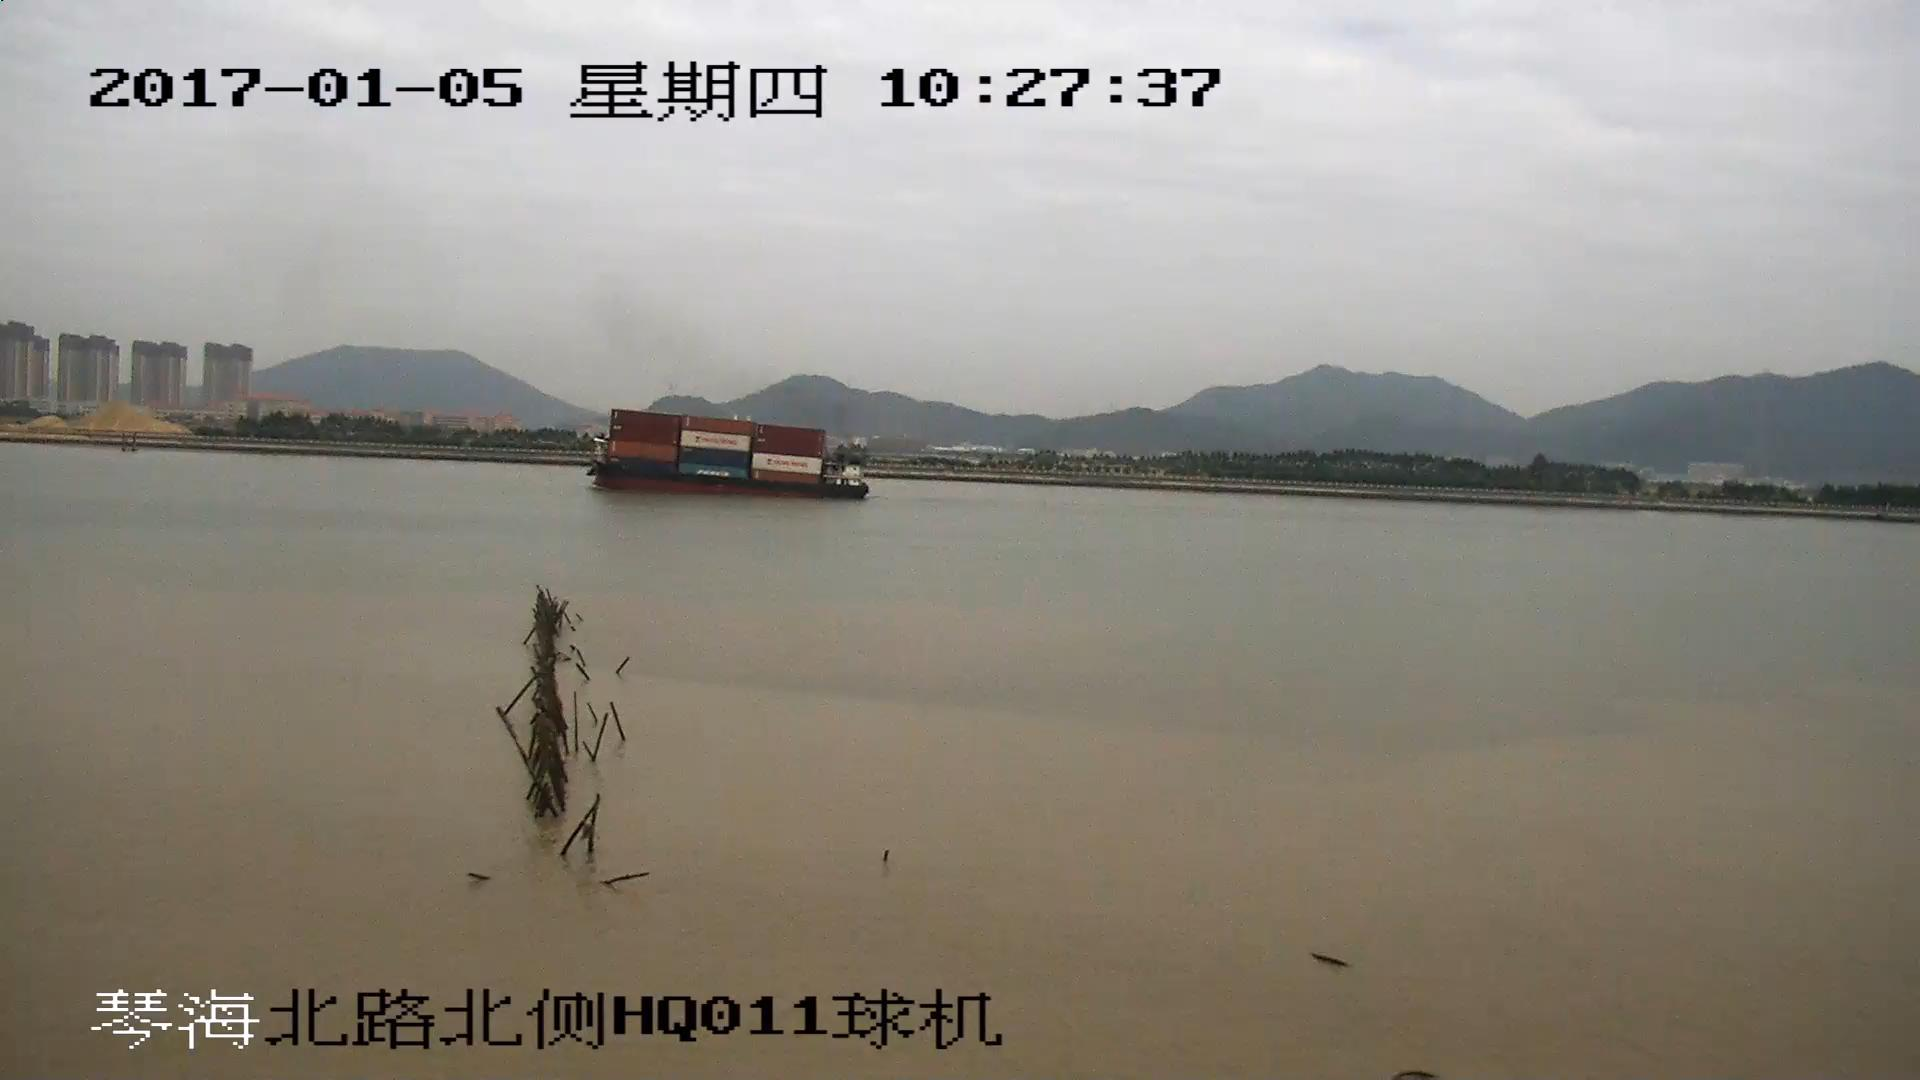Ship: (589, 409, 868, 498)
